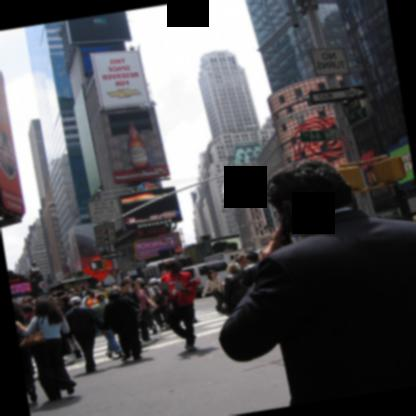handbag: (19, 318, 46, 347), (166, 292, 178, 313)
